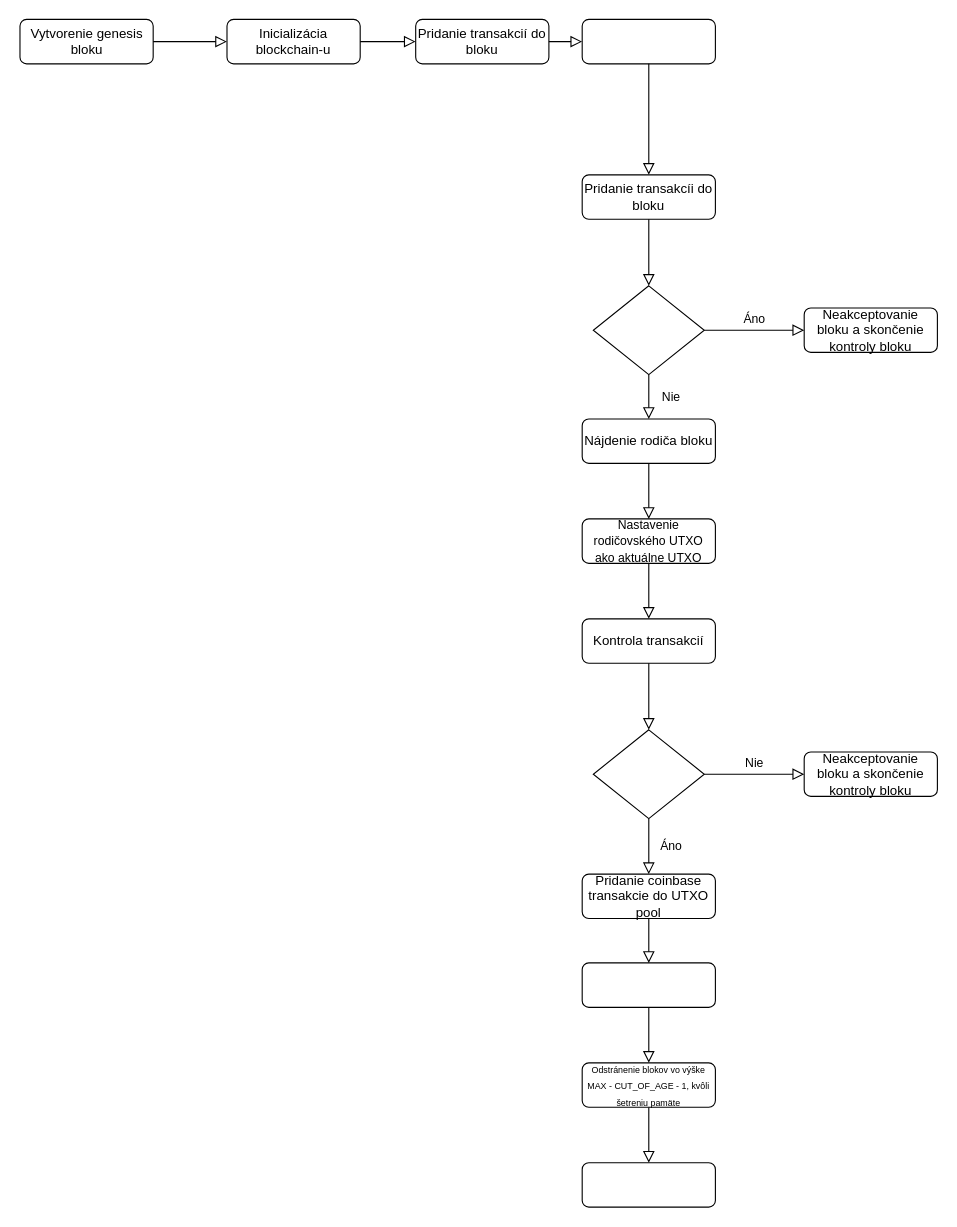
The diagram is 957 pixels wide and 1227 high, and some of its shapes have lost their labels. The shapes that lost their labels are listed below. From the top down, each one's box as (x1, y1, x2, y2) in pixels, then its label:
(581, 18, 715, 64): Kontrola bloku
(592, 285, 704, 375): Je znovu pridaný genesis blok?
(592, 729, 704, 819): Je výška bloku akceptovateľná?
(581, 962, 715, 1007): Odstránenie overených transakcíi z transaction pool
(581, 1162, 715, 1207): Pridanie bloku do siete
